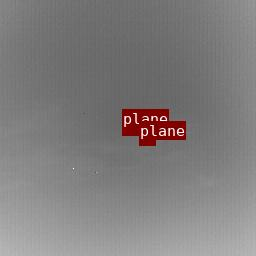plane: (122, 128, 138, 135), (139, 140, 155, 145)
